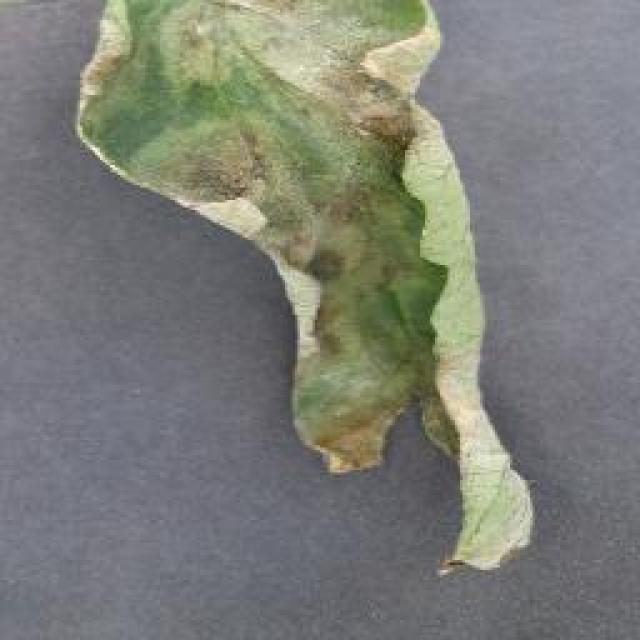Tomato Late Blight: (157, 85, 563, 552)
